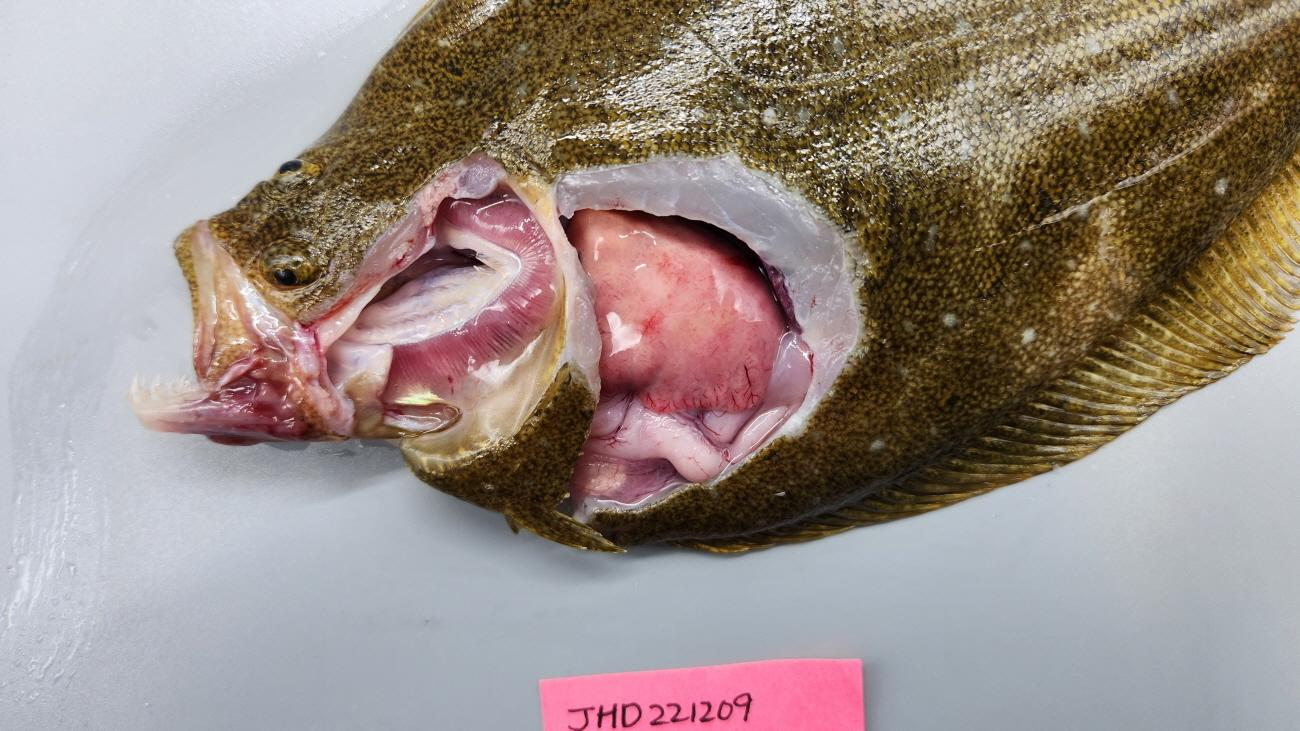VIGIP: (449, 200, 556, 325)
